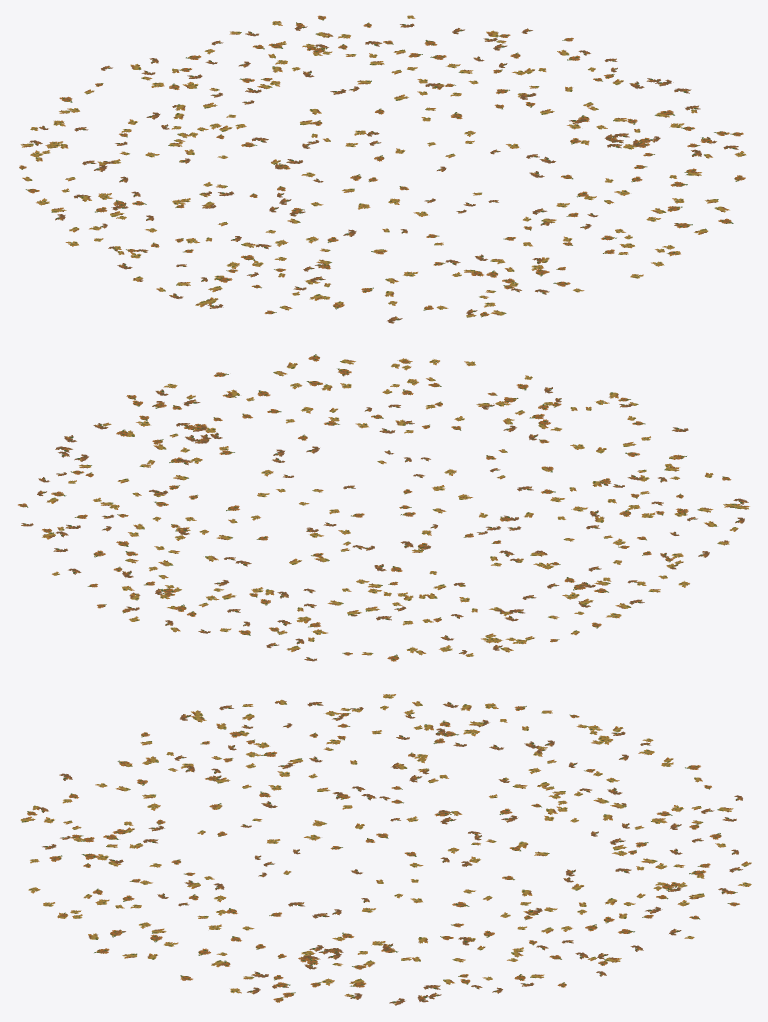
The model's file is chene_adulte_a.fbx.
The picture shows the model from 3 angles, top to bottom: view 1: azimuth 30°, elevation 25°; view 2: azimuth 150°, elevation 25°; view 3: azimuth 270°, elevation 25°; orthographic projection. The views are drawn at different scales.
Parts seen in each view (by area): view 1: chene_adulte_a_feuilles_sol; view 2: chene_adulte_a_feuilles_sol; view 3: chene_adulte_a_feuilles_sol.
Part boxes in pixels (x1,y1,x2,y2): chene_adulte_a_feuilles_sol: [19, 15, 746, 323]; chene_adulte_a_feuilles_sol: [18, 354, 749, 661]; chene_adulte_a_feuilles_sol: [20, 694, 751, 1005].
Size of what is drawn, in the model's own units: 17.04 by 0.00594 by 16.9.
